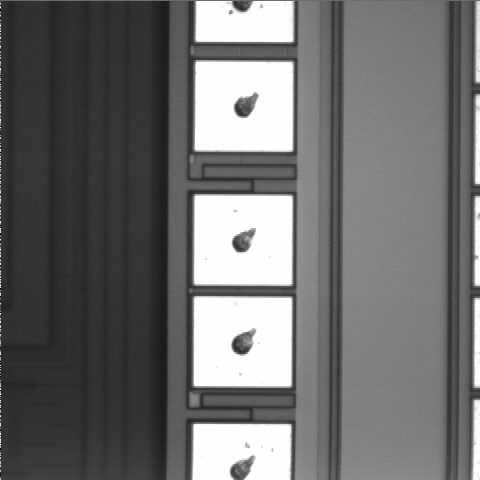pad: (194, 195, 293, 286), (195, 61, 293, 152), (194, 296, 292, 387)
